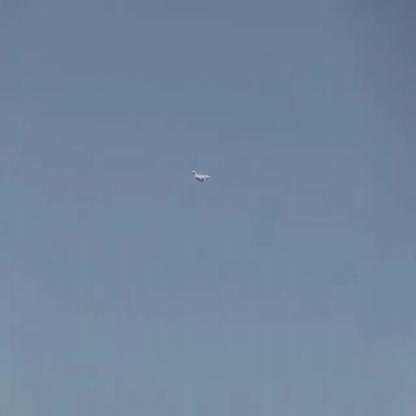CIV_Plane: (192, 170, 212, 182)
